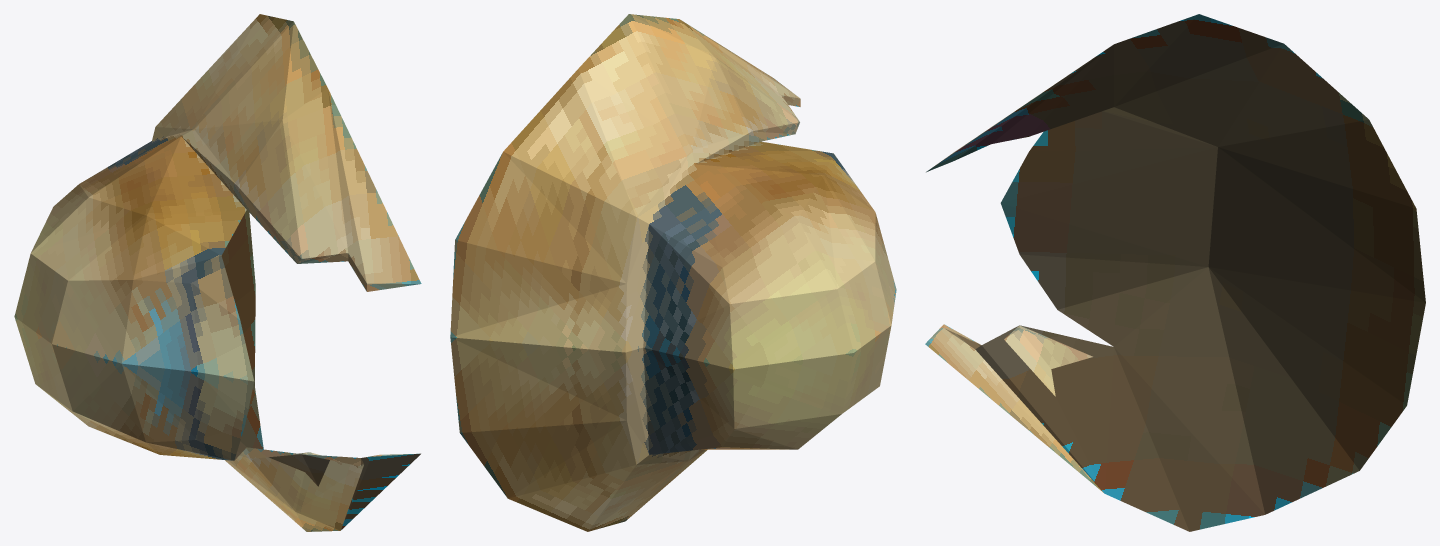
File: SCHAINHELM_H.obj
The picture shows the model from 3 angles, left to right: view 1: azimuth 30°, elevation 25°; view 2: azimuth 150°, elevation 25°; view 3: azimuth 270°, elevation 25°; orthographic projection.
Visible parts, largest first — view 1: Node 0; view 2: Node 0; view 3: Node 0.
Part boxes in pixels (bbox=[...]): Node 0: bbox=[14, 14, 421, 531]; Node 0: bbox=[450, 14, 896, 531]; Node 0: bbox=[925, 14, 1425, 531].
Size of the model in its own units: 0.39 by 0.6 by 0.53.
Materials: 1 (1 with a texture image).
